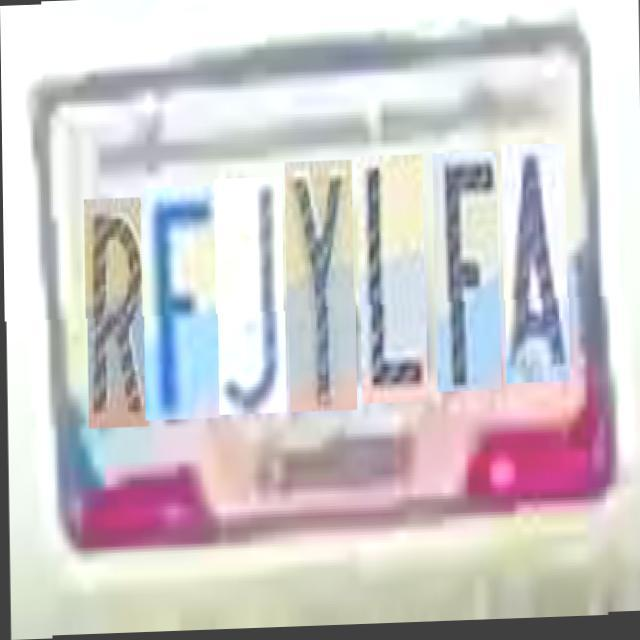A: (503, 148, 569, 388)
F: (142, 188, 218, 422), (434, 155, 500, 395)
J: (216, 180, 286, 416)
L: (358, 157, 426, 406)
R: (84, 198, 148, 429)
Y: (286, 162, 356, 414)
